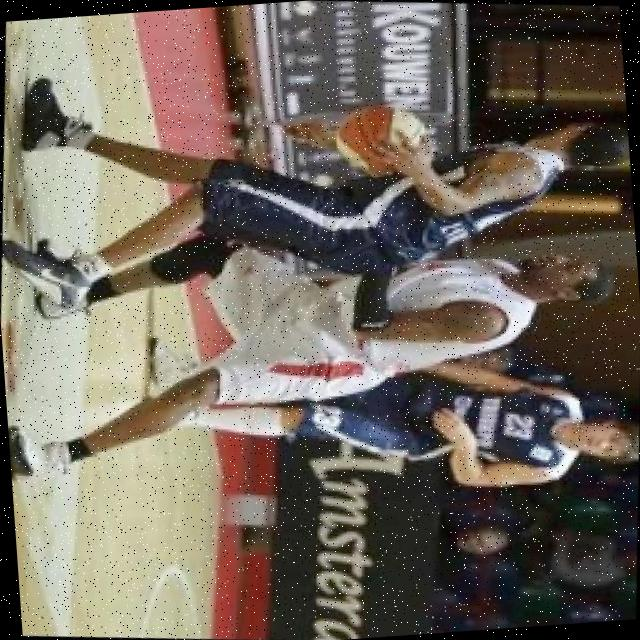ball: (324, 88, 439, 186)
